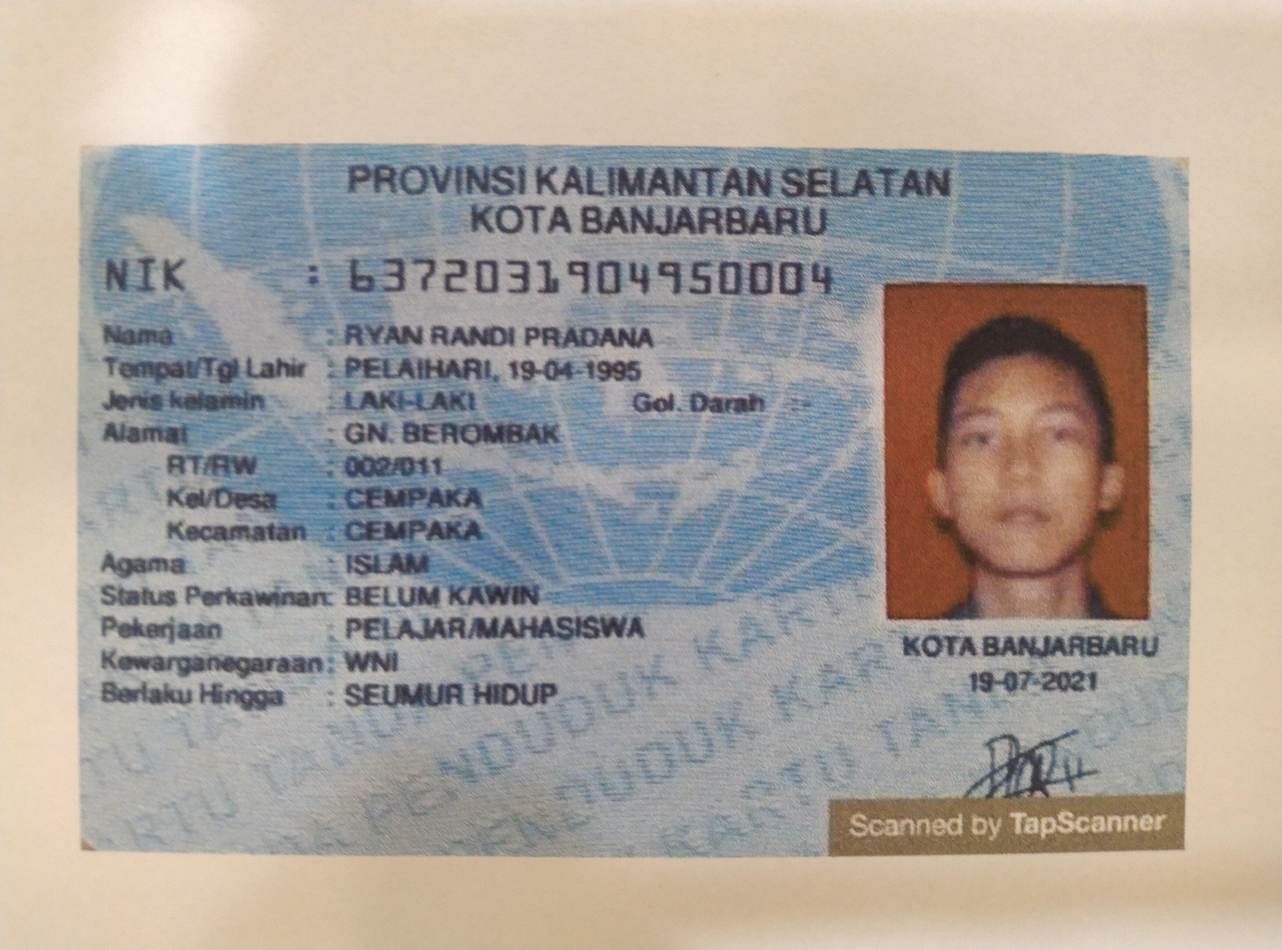ID-card: (72, 145, 1184, 845)
